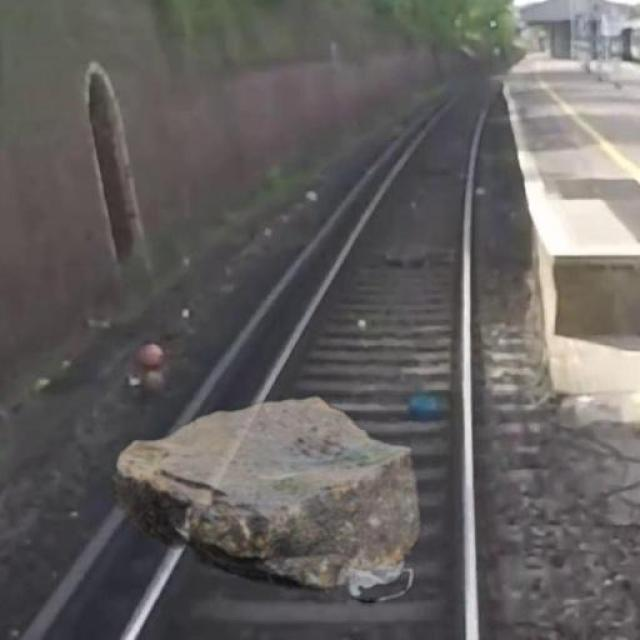Stone: (110, 394, 424, 610)
